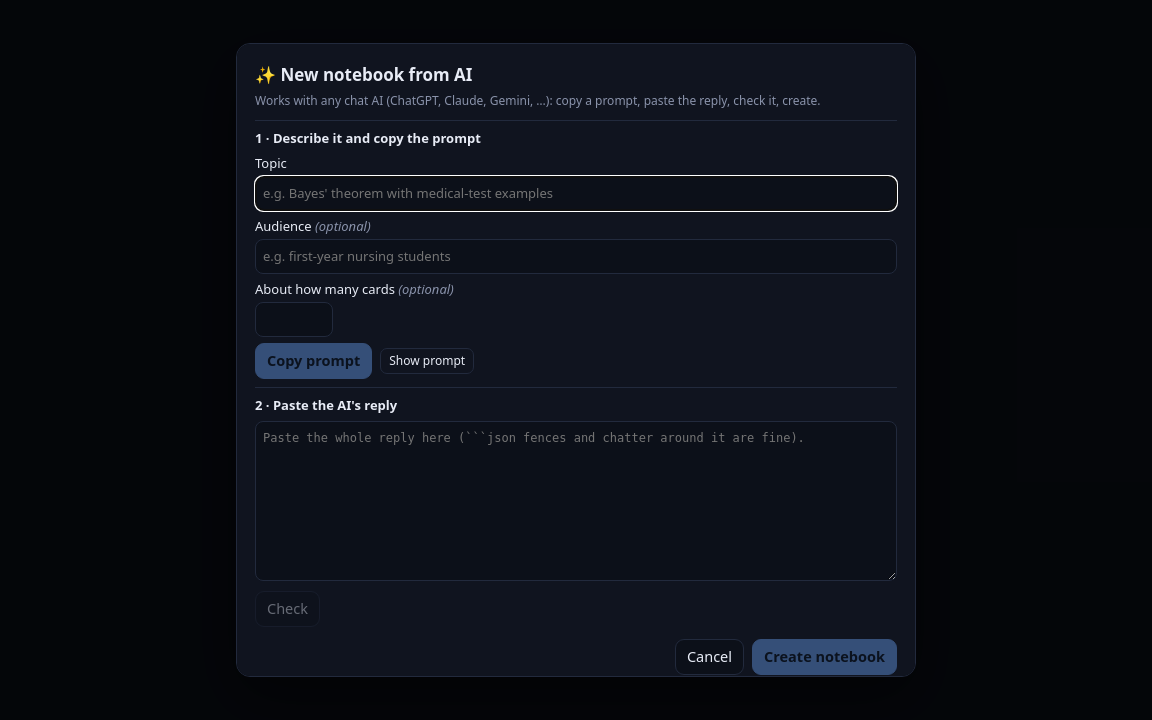
Test: FromAiModal — step 1: the prompt › copies the prompt built from topic, audience and card count
Type "Fractions" into the field labelled "Topic" at (576, 193), box left=255, top=176, right=897, bottom=211
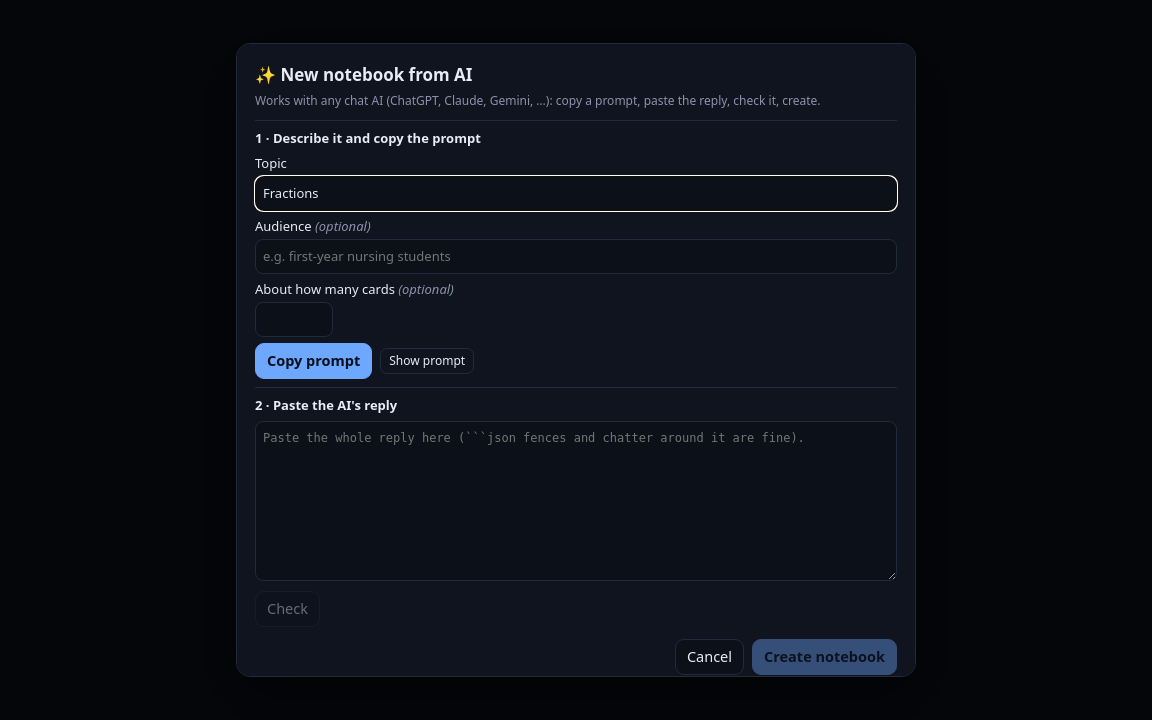
Type "grade 5" into the field labelled "Audience (optional)" at (576, 256), box left=255, top=239, right=897, bottom=274
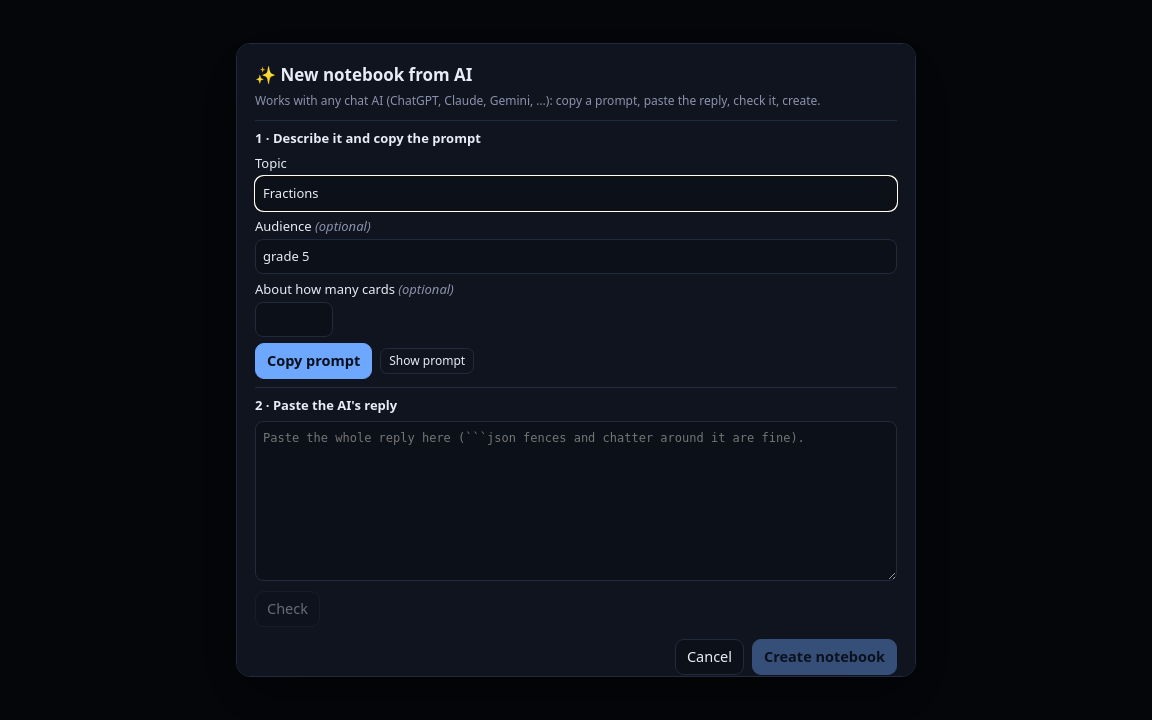
Type "9" into the number field labelled "About how many cards (optional)" at (294, 319), box left=255, top=302, right=333, bottom=337
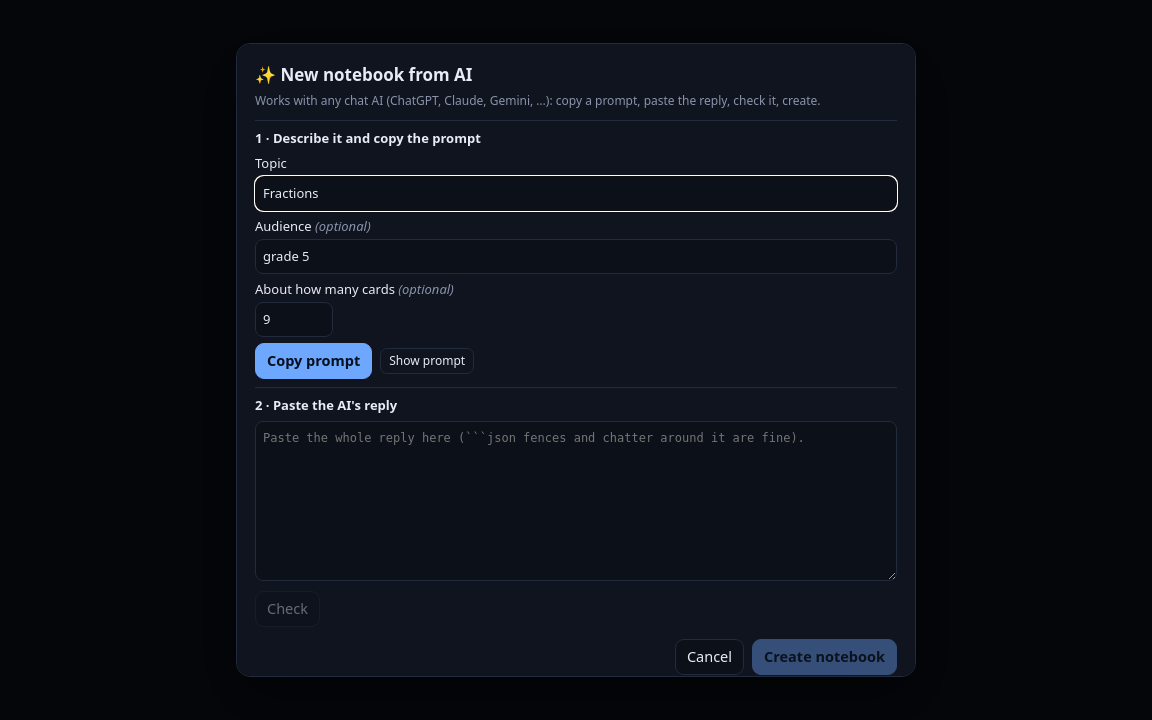
Click the button "Copy prompt" at (314, 361), box left=255, top=343, right=372, bottom=379
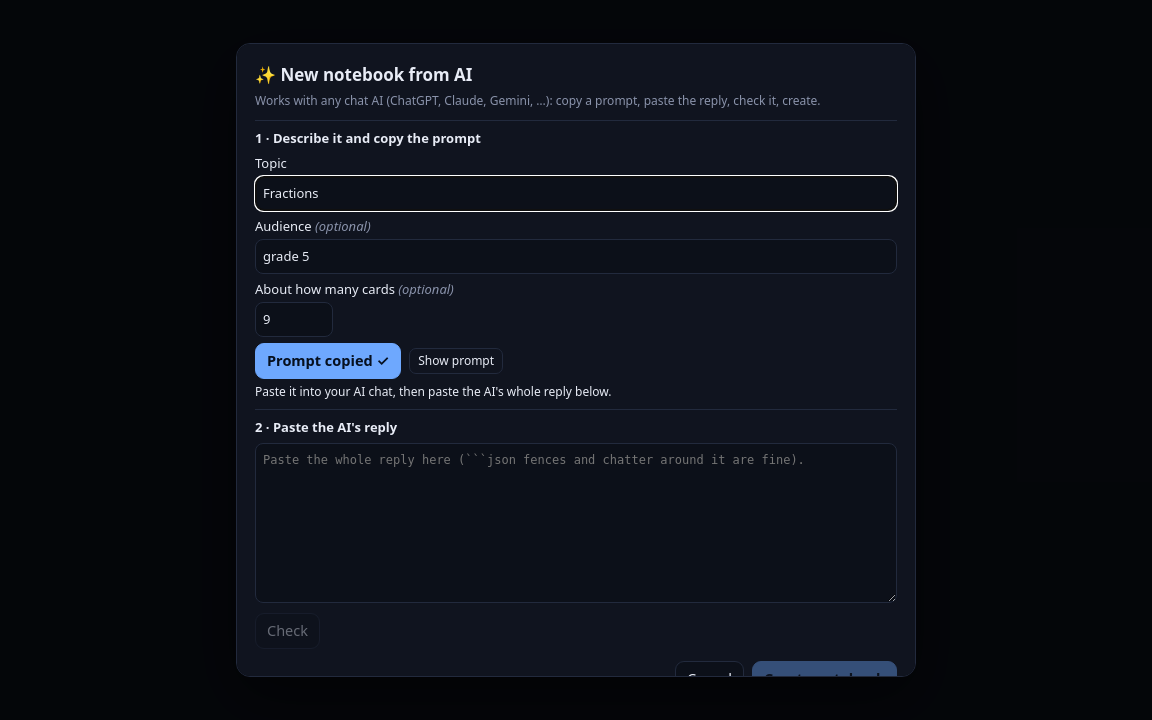
any change makes the copied prompt stale
Replace the text in the field labelled "Audience (optional)" with "grade 6" at (576, 256), box left=255, top=239, right=897, bottom=274
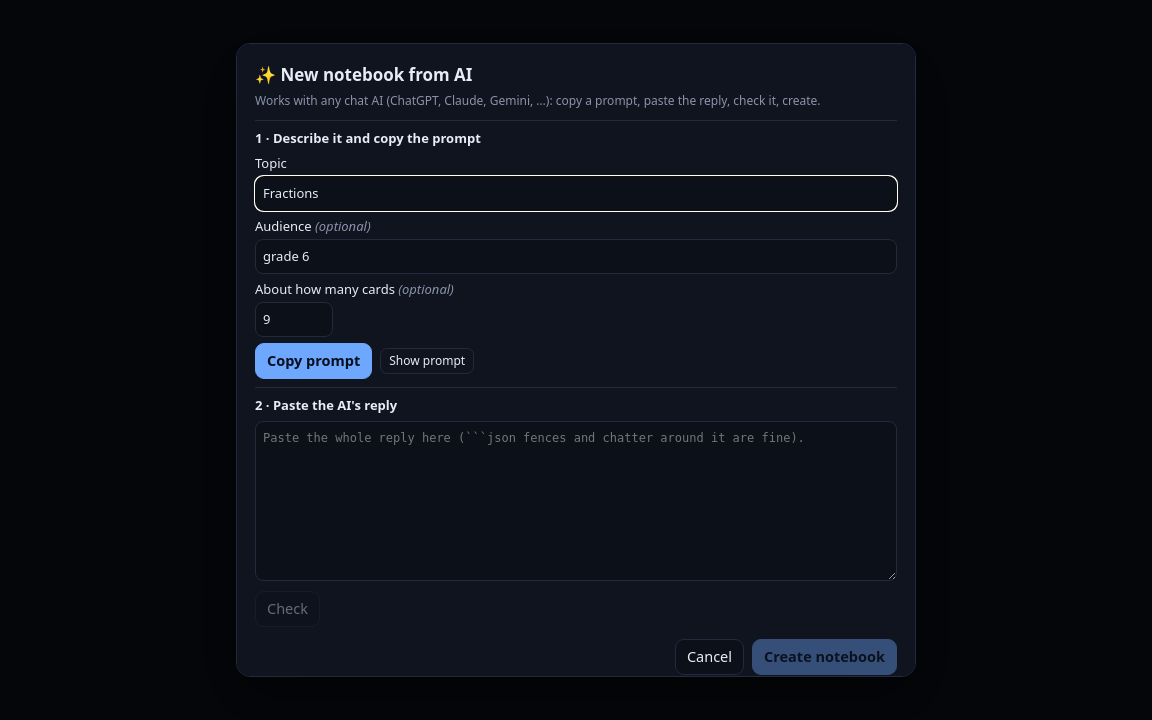
Expected: the button "Copy prompt" is shown, left=255, top=343, right=372, bottom=379
